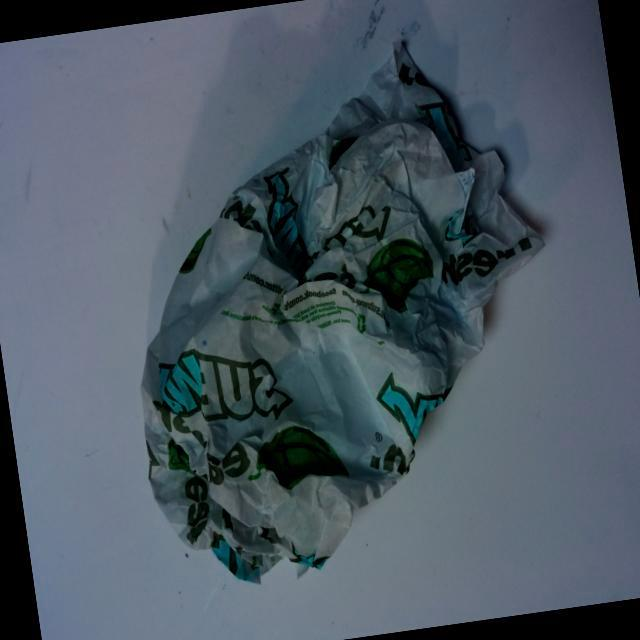paper: (85, 34, 591, 622)
